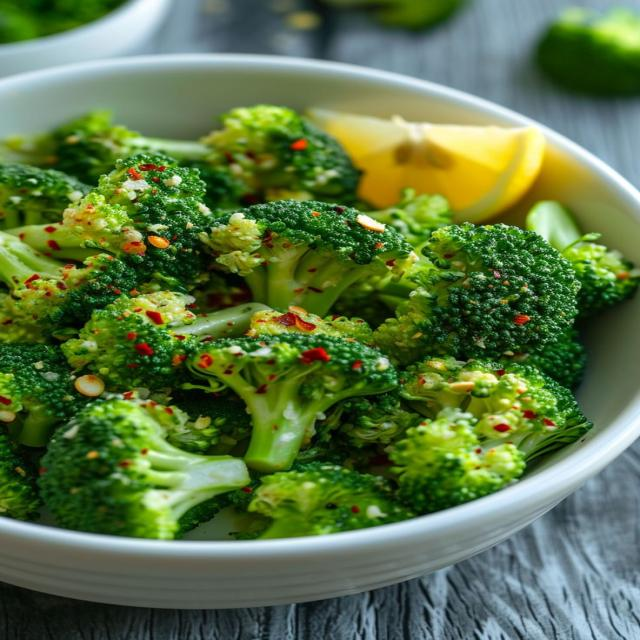broccoli: (5, 105, 359, 209), (40, 399, 249, 539), (188, 334, 397, 472), (374, 224, 579, 363), (17, 156, 210, 289), (201, 200, 411, 315), (62, 292, 263, 391), (401, 358, 591, 461), (203, 104, 359, 204), (6, 111, 206, 184), (390, 407, 526, 513), (527, 201, 639, 318), (0, 232, 138, 325), (248, 463, 414, 539), (0, 343, 100, 446), (537, 7, 639, 95), (0, 164, 89, 230), (497, 328, 586, 388), (367, 189, 453, 251), (169, 390, 251, 455), (0, 0, 123, 43), (333, 391, 423, 448), (247, 307, 373, 344), (324, 0, 465, 29), (0, 432, 41, 520), (190, 271, 252, 312), (0, 292, 46, 343), (0, 0, 39, 43)
lemon: (308, 110, 545, 222)
